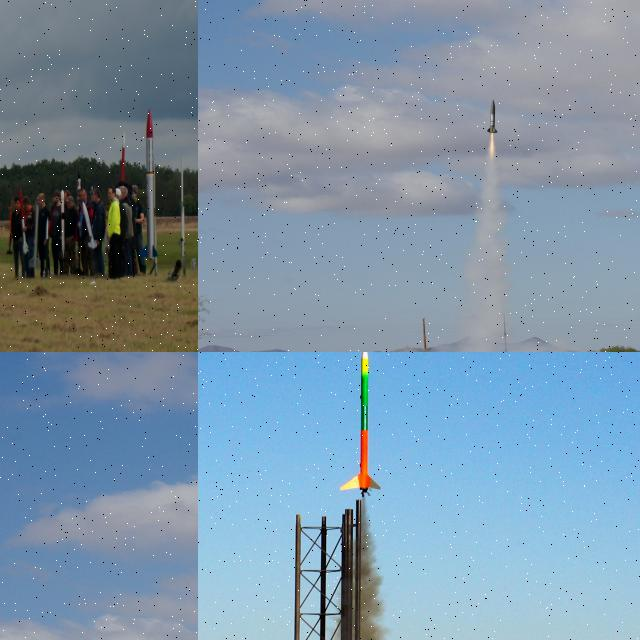Rocket: (339, 352, 384, 495), (140, 109, 158, 259), (82, 202, 98, 250), (30, 202, 40, 266), (20, 187, 28, 254), (60, 190, 66, 259), (487, 99, 498, 134), (6, 200, 12, 255), (121, 131, 125, 196), (77, 166, 81, 222), (46, 216, 48, 239)
